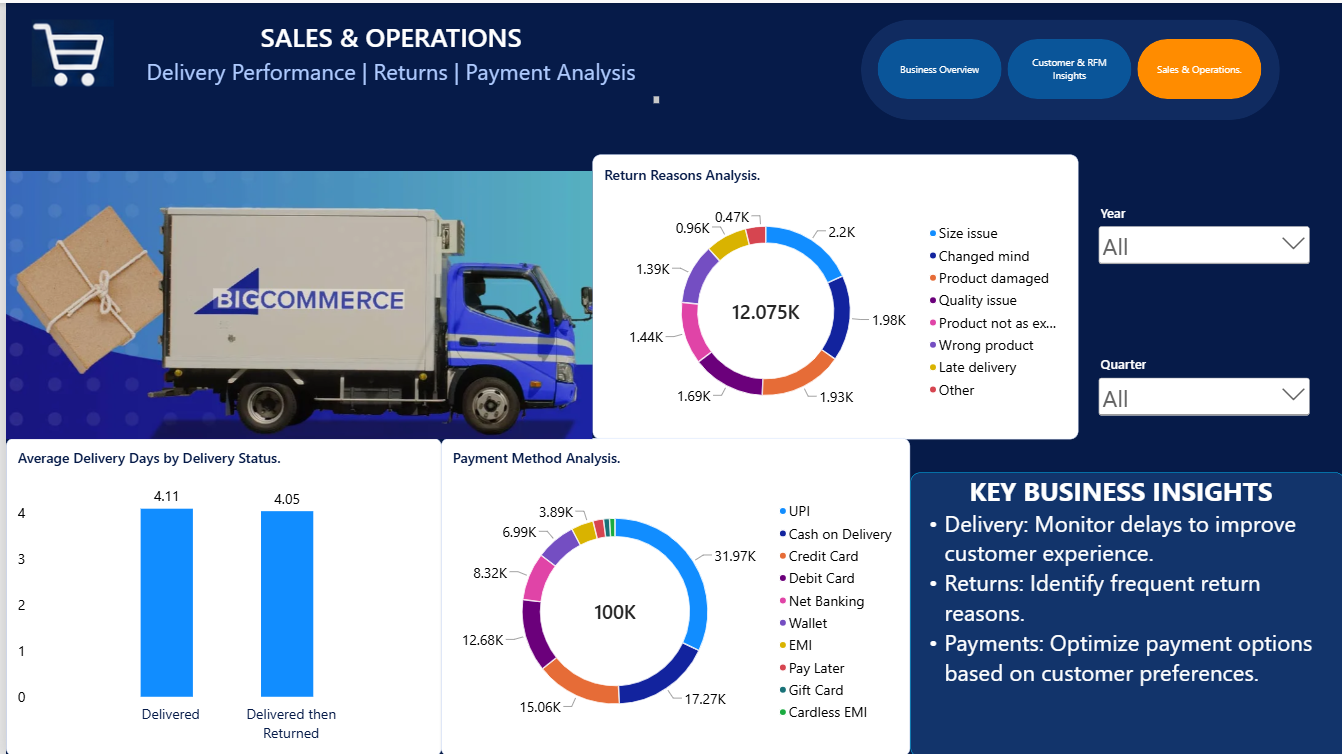

The dashboard page shown, as its layout file describes it:
{"tool":"powerbi","page":{"name":"Sales & Operations.","canvas":[1920,1080],"ordinal":2},"visuals":[{"type":"clusteredColumnChart","title":"Average Delivery Days by Delivery Status.","fields":{"Category":["shipments_cleaned.delivery_status"],"Y":["Avg(shipments_cleaned.delivery_days)"]},"box":[0,624,624,456],"z":1000},{"type":"donutChart","title":"Return Reasons Analysis.","fields":{"Category":["returns_cleaned.return_reason"],"Y":["CountNonNull(returns_cleaned.return_id)"]},"box":[840,216,696,408],"z":2000},{"type":"donutChart","title":"Payment Method Analysis.","fields":{"Category":["payments_cleaned.payment_method"],"Y":["CountNonNull(payments_cleaned.payment_id)"]},"box":[624,624,672,456],"z":3000},{"type":"textbox","title":"SALES & OPERATIONS","box":[168,24,768,120],"z":4000},{"type":"textbox","box":[1296,672,624,408],"z":5000},{"type":"shape","box":[1224,24,600,144],"z":5003,"group":"g1"},{"type":"pageNavigator","box":[1248,52.8,552,86.4],"z":5004,"group":"g1"},{"type":"group","id":"g1","title":"Group 1","box":[1224,24,600,144],"z":5005},{"type":"slicer","fields":{"Values":["Date_Table.Year"]},"box":[1560,288,312,144],"z":5006},{"type":"slicer","fields":{"Values":["Date_Table.Quarter"]},"box":[1560,504,312,144],"z":5007},{"type":"image","box":[0,240,840,384],"z":5008},{"type":"image","box":[24,24,144,96],"z":5010}]}

Visuals, with their boxes in screenshot pixels (x1, y1, x2, y2), scaled from the page's 1920x1080 canvas onto the 1342x754 screenshot:
"Average Delivery Days by Delivery Status." clusteredColumnChart: l=0, t=436, r=436, b=753
"Return Reasons Analysis." donutChart: l=587, t=151, r=1074, b=436
"Payment Method Analysis." donutChart: l=436, t=436, r=906, b=753
"SALES & OPERATIONS" textbox: l=117, t=17, r=654, b=101
textbox: l=906, t=469, r=1341, b=753
shape: l=856, t=17, r=1275, b=117
pageNavigator: l=872, t=37, r=1258, b=97
"Group 1" group: l=856, t=17, r=1275, b=117
slicer - Date_Table.Year: l=1090, t=201, r=1308, b=302
slicer - Date_Table.Quarter: l=1090, t=352, r=1308, b=452
image: l=0, t=168, r=587, b=436
image: l=17, t=17, r=117, b=84
